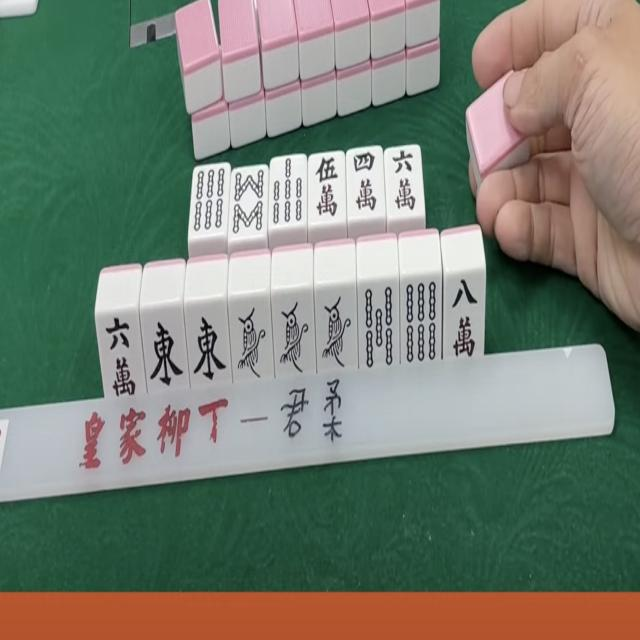east: (144, 308, 186, 391), (187, 303, 228, 384)
m4: (347, 149, 383, 217)
m5: (309, 154, 344, 222)
m6: (96, 314, 143, 401), (388, 148, 422, 216)
m8: (444, 274, 484, 362)
s1: (232, 304, 270, 381), (319, 294, 355, 371), (277, 300, 311, 377)
s5: (361, 283, 396, 370)
s6: (400, 276, 443, 368), (191, 165, 228, 238)
s7: (271, 156, 306, 227)
s8: (232, 167, 268, 236)
